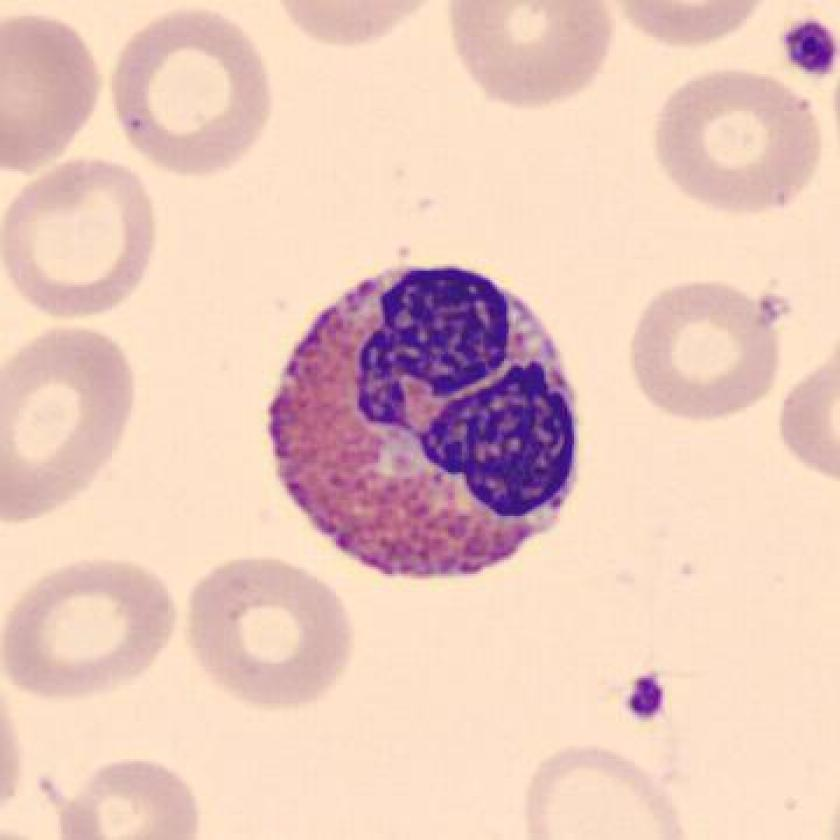eosinophil: (246, 253, 596, 591)
